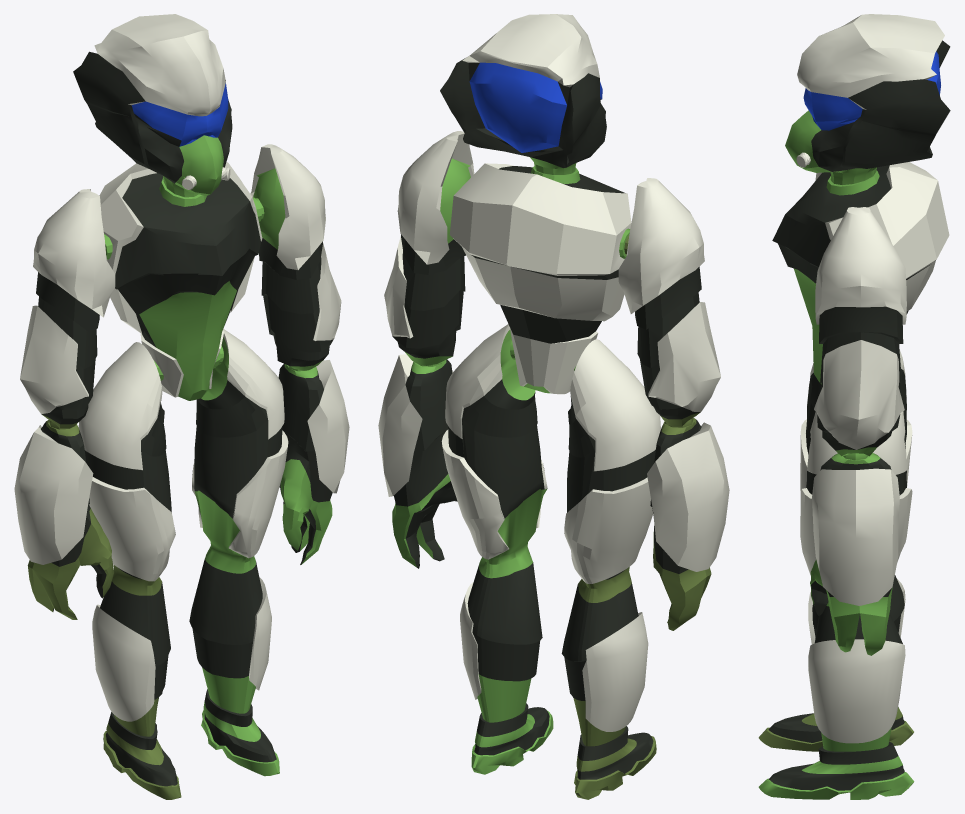
The model's file is Robo_4.fbx.
3 views of the same model, side by side, from view 1: azimuth 30°, elevation 25°; view 2: azimuth 150°, elevation 25°; view 3: azimuth 270°, elevation 25° (orthographic). The views are drawn at different scales.
Parts seen in each view (by area): view 1: PernaEsq_4, PernaDir_4, BracoDir_4, Torso_4, BracoEsq_4, Cabeca_4; view 2: PernaDir_4, PernaEsq_4, BracoDir_4, Torso_4, BracoEsq_4, Cabeca_4; view 3: BracoEsq_4, Cabeca_4, PernaEsq_4, Torso_4, PernaDir_4.
Part boxes in pixels (<box>): PernaEsq_4: <box>189,329,288,776</box>; PernaDir_4: <box>78,342,181,799</box>; BracoDir_4: <box>14,189,115,619</box>; Torso_4: <box>99,162,262,400</box>; BracoEsq_4: <box>250,144,349,564</box>; Cabeca_4: <box>73,14,232,197</box>; PernaDir_4: <box>561,339,660,799</box>; PernaEsq_4: <box>441,324,553,774</box>; BracoDir_4: <box>618,178,729,630</box>; Torso_4: <box>449,163,631,394</box>; BracoEsq_4: <box>378,131,474,568</box>; Cabeca_4: <box>440,14,606,174</box>; BracoEsq_4: <box>810,207,906,655</box>; Cabeca_4: <box>785,14,950,184</box>; PernaEsq_4: <box>758,412,914,799</box>; Torso_4: <box>772,162,949,384</box>; PernaDir_4: <box>758,350,913,751</box>.
Bounding box in the file's own units: 139 × 296 × 69.08.
